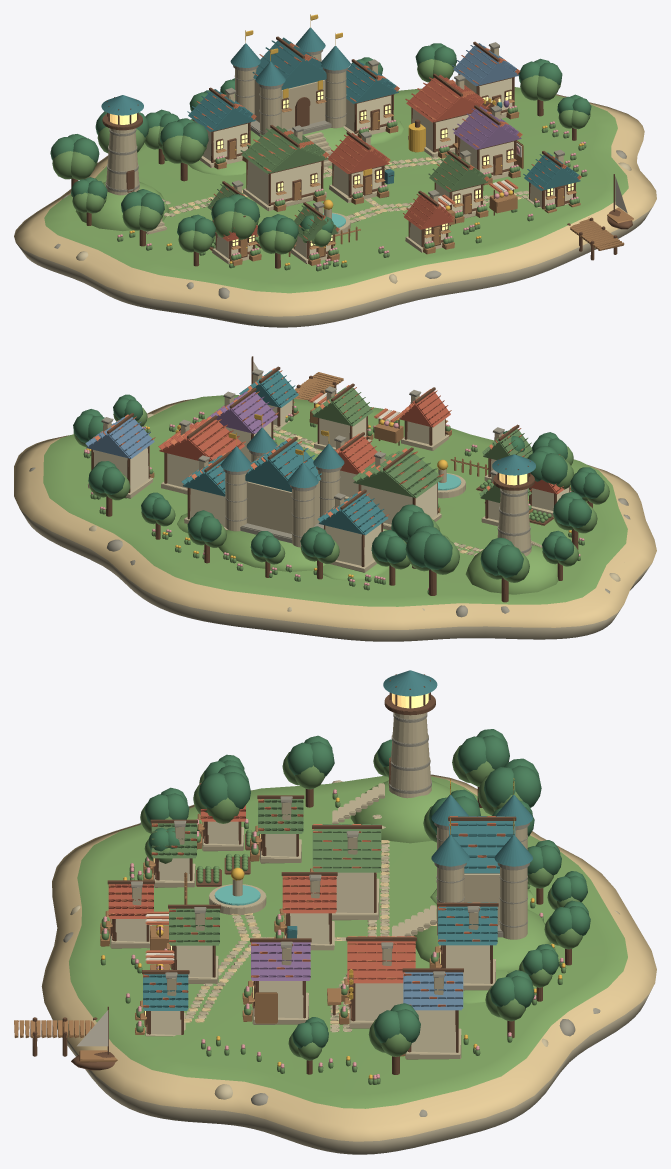
Rendered from island-balanced.glb.
3 views of the same model, one above another, from view 1: azimuth 30°, elevation 25°; view 2: azimuth 150°, elevation 25°; view 3: azimuth 270°, elevation 25° (orthographic). The views are drawn at different scales.
Parts seen in each view (by area): view 1: landscape__cliff, landscape__leaf_light, landscape__leaf, keep__stone, keep__teal, landscape__grass, guild__green, workshop__roof, guild__cream, lighthouse__stone, atelier__purple, library__teal (+31 smaller); view 2: landscape__cliff, landscape__leaf, landscape__leaf_light, keep__stone, landscape__grass, keep__teal, guild__green, workshop__roof, library__teal, alchemy__blue, lighthouse__stone, atelier__purple (+23 smaller); view 3: landscape__cliff, landscape__leaf, landscape__leaf_light, landscape__grass, keep__stone, keep__teal, lighthouse__stone, landscape__stone, guild__green, workshop__roof, treasury__teal, atelier__purple (+29 smaller).
Part boxes in pixels (box(x1,y1,x2,y2)): landscape__cliff: box(14, 87, 656, 327); landscape__leaf_light: box(52, 59, 590, 271); landscape__leaf: box(50, 43, 591, 238); keep__stone: box(235, 53, 346, 167); keep__teal: box(230, 27, 350, 89); landscape__grass: box(75, 119, 404, 231); guild__green: box(240, 125, 328, 173); workshop__roof: box(405, 75, 489, 122); guild__cream: box(247, 160, 321, 204); lighthouse__stone: box(106, 128, 166, 234); atelier__purple: box(452, 106, 521, 149); library__teal: box(187, 89, 255, 131); landscape__cliff: box(14, 395, 656, 641); landscape__leaf: box(73, 394, 604, 577); landscape__leaf_light: box(73, 407, 609, 594); keep__stone: box(225, 454, 339, 547); landscape__grass: box(177, 513, 558, 594); keep__teal: box(221, 427, 344, 491); guild__green: box(352, 451, 442, 498); workshop__roof: box(158, 419, 244, 461); library__teal: box(317, 493, 388, 535); alchemy__blue: box(85, 417, 154, 458); lighthouse__stone: box(497, 489, 542, 555); atelier__purple: box(207, 391, 277, 433); landscape__cliff: box(41, 774, 656, 1154); landscape__leaf: box(144, 729, 590, 1048); landscape__leaf_light: box(100, 745, 582, 1084); landscape__grass: box(350, 780, 550, 1003); keep__stone: box(392, 827, 527, 939); keep__teal: box(431, 795, 532, 873); lighthouse__stone: box(332, 713, 431, 824); landscape__stone: box(70, 780, 619, 1099); guild__green: box(312, 824, 381, 872); workshop__roof: box(347, 936, 415, 983); treasury__teal: box(438, 902, 497, 945); atelier__purple: box(251, 942, 310, 980).
Bounding box in the file's own units: 30.26 × 7.03 × 22.35.
